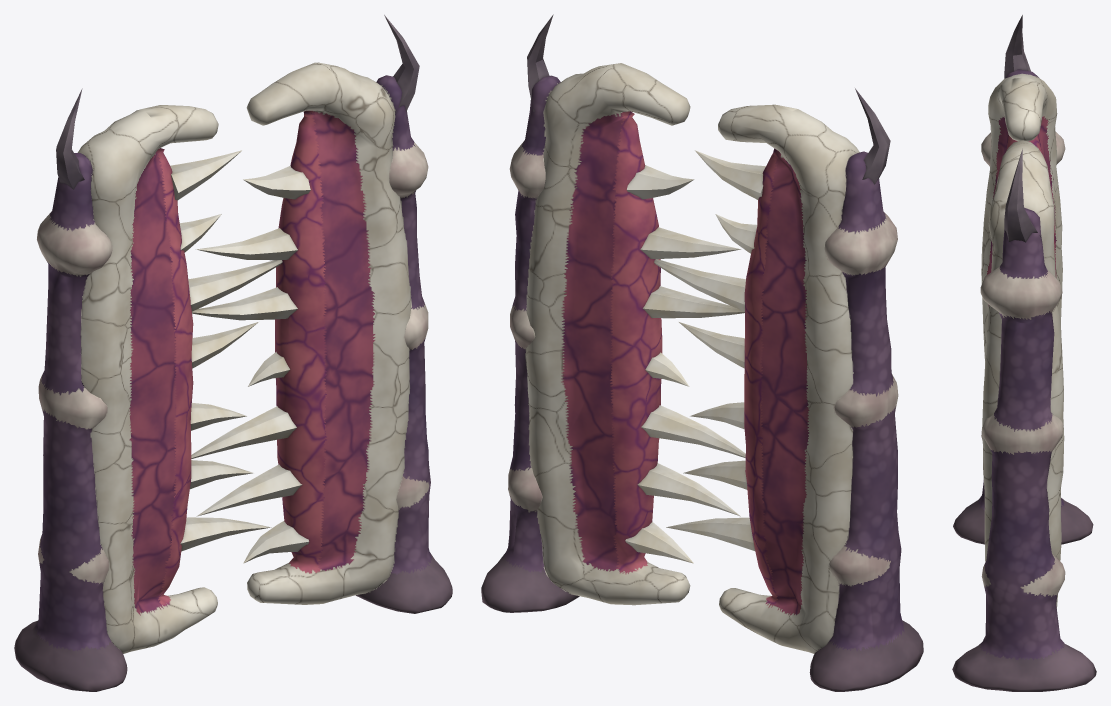
The model's file is puerta_mandibula.fbx.
3 renders of one model, left to right at view 1: azimuth 30°, elevation 25°; view 2: azimuth 150°, elevation 25°; view 3: azimuth 270°, elevation 25°, orthographic. The views are drawn at different scales.
Visible parts, largest first — view 1: mandibula_izq, mandibula_der, marco; view 2: mandibula_izq, mandibula_der, marco; view 3: marco, mandibula_izq, mandibula_der.
Part boxes in pixels (x1,y1,x2,y2): mandibula_izq: [191, 62, 410, 604]; mandibula_der: [77, 105, 282, 653]; marco: [14, 15, 452, 691]; mandibula_izq: [526, 63, 745, 605]; mandibula_der: [654, 104, 859, 653]; marco: [481, 14, 923, 691]; marco: [952, 15, 1096, 691]; mandibula_izq: [982, 140, 1064, 608]; mandibula_der: [981, 73, 1062, 371].
Bounding box in the file's own units: 6 × 8 × 2.01.
1 material, 1 textured.
